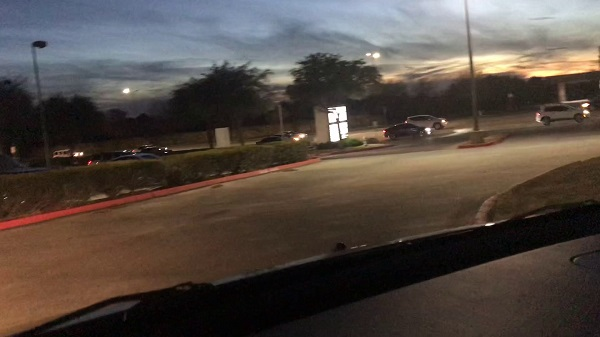car: (533, 102, 591, 124), (381, 123, 431, 138), (405, 114, 450, 129), (257, 135, 298, 144)
